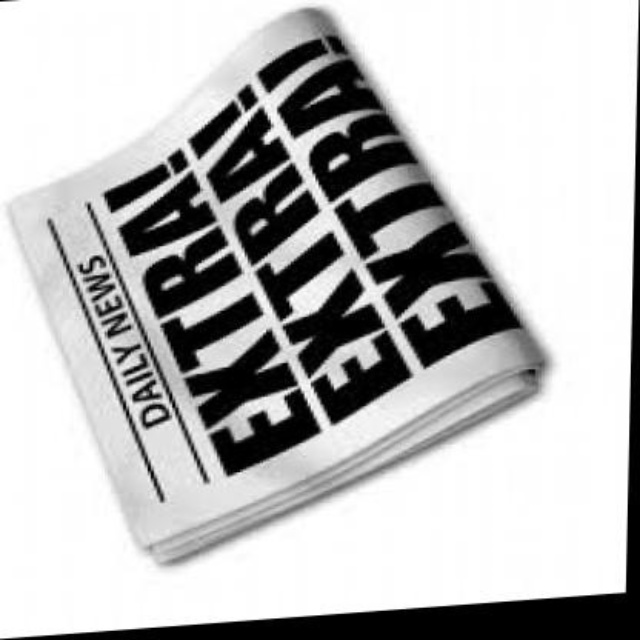trash: (9, 9, 542, 560)
